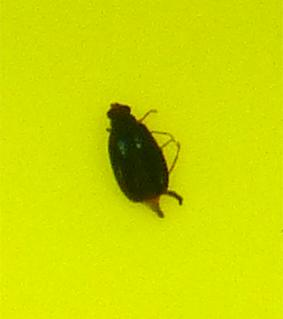Coleoptera: (100, 100, 183, 219)
